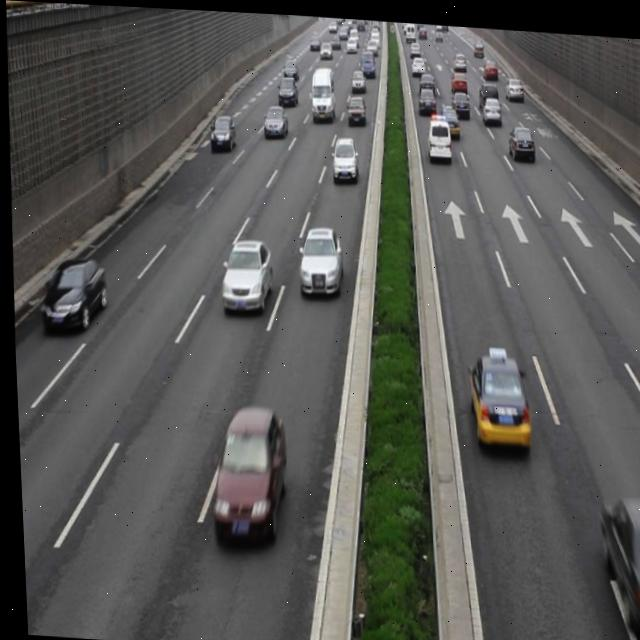car: (206, 403, 285, 543), (462, 339, 527, 446), (593, 485, 640, 626), (36, 251, 107, 332), (217, 235, 271, 310), (294, 221, 341, 297), (329, 135, 357, 180), (208, 110, 236, 149), (506, 118, 532, 153)
truck: (424, 108, 450, 160)
